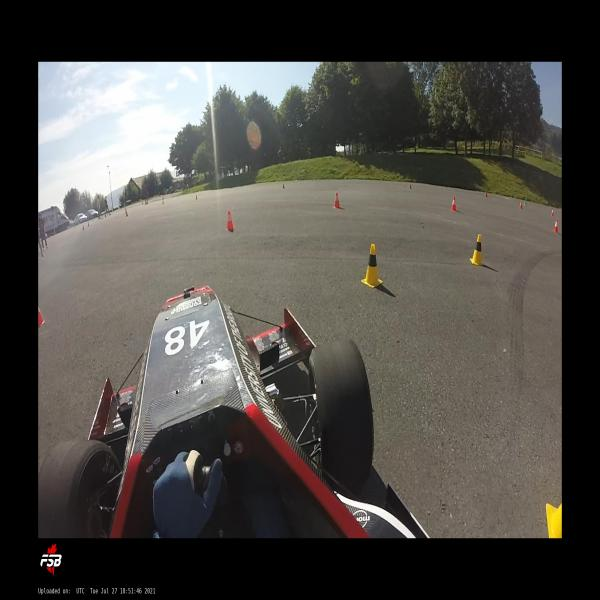orange_cone: (226, 210, 234, 231), (334, 192, 340, 209), (451, 196, 457, 212), (554, 219, 558, 233), (551, 208, 554, 217), (519, 200, 522, 209)
unknown_cone: (485, 191, 488, 197), (524, 198, 526, 204)
yellow_cone: (360, 244, 384, 288), (469, 234, 483, 266)
